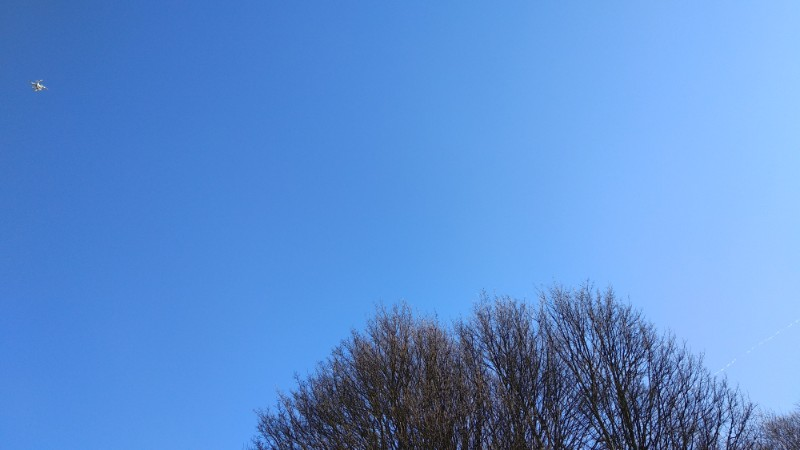drone: (31, 78, 48, 94)
